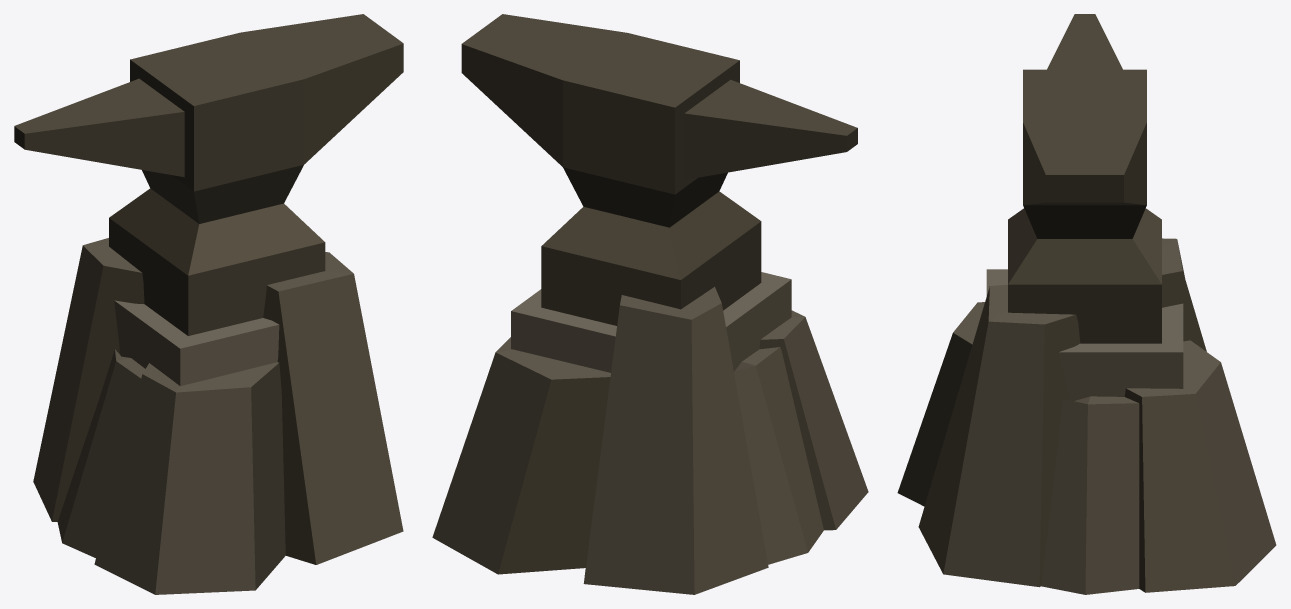
Rendered from SF_Prop_Undead_Anvil_01.fbx.
The picture shows the model from 3 angles, left to right: view 1: azimuth 30°, elevation 25°; view 2: azimuth 150°, elevation 25°; view 3: azimuth 270°, elevation 25°; orthographic projection. The views are drawn at different scales.
Parts seen in each view (by area): view 1: SF_Prop_Undead_Anvil_01; view 2: SF_Prop_Undead_Anvil_01; view 3: SF_Prop_Undead_Anvil_01.
Part boxes in pixels (box(x1,y1,x2,y2)): SF_Prop_Undead_Anvil_01: box(14, 14, 403, 594); SF_Prop_Undead_Anvil_01: box(432, 14, 868, 594); SF_Prop_Undead_Anvil_01: box(897, 14, 1276, 594).
Size of the model in its own units: 1.51 by 1.73 by 1.4.
